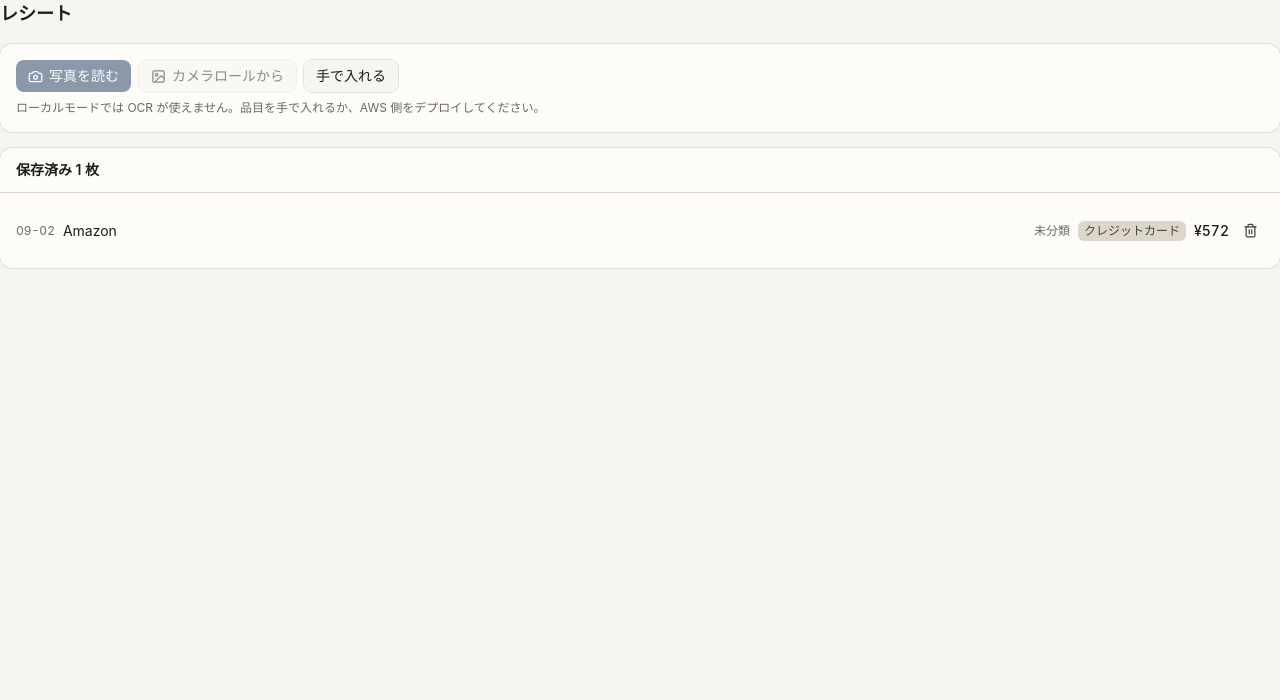
Test case: 保存する前の警告 › 保存済みと同じかもしれない下書きには、登録する前に警告を出す
The image size is (1280, 700).
expect the heading "保存済み 1 枚" is shown: met, box [16,160,99,180]
Click the button "手で入れる" at point(351, 76), box [304,60,398,92]
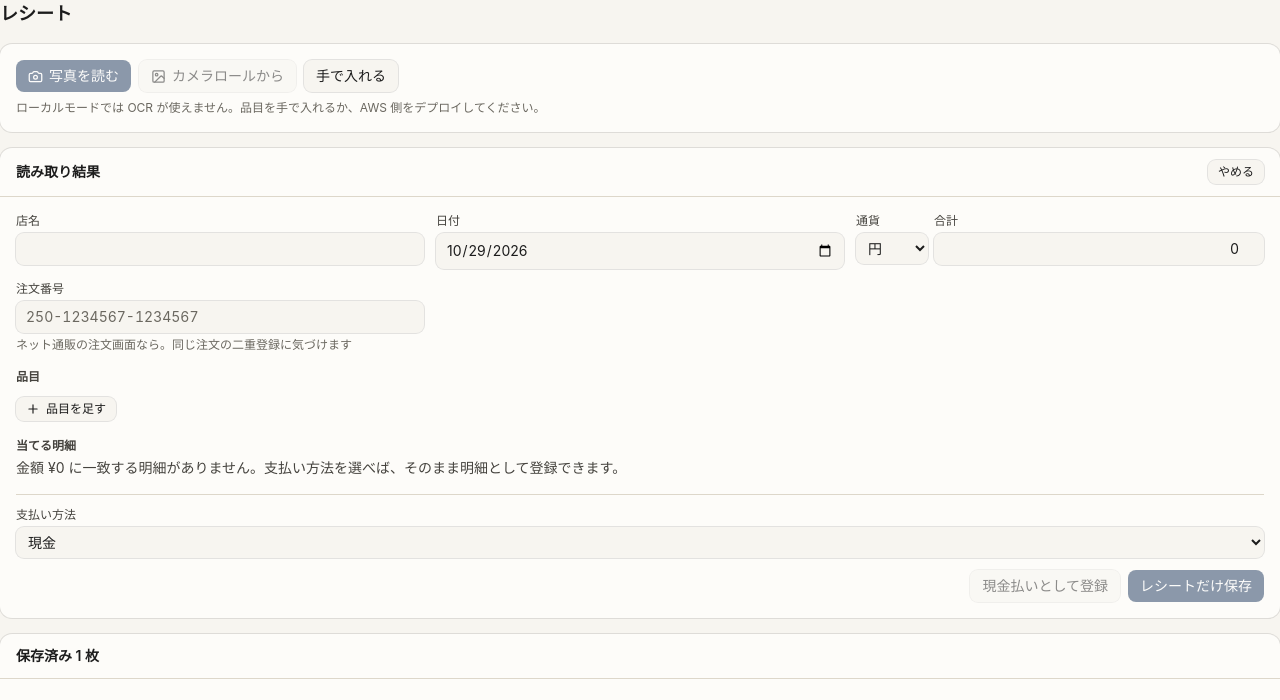
Type "Amazon" into the field labelled "店名" at point(220, 249), box [16,233,424,265]
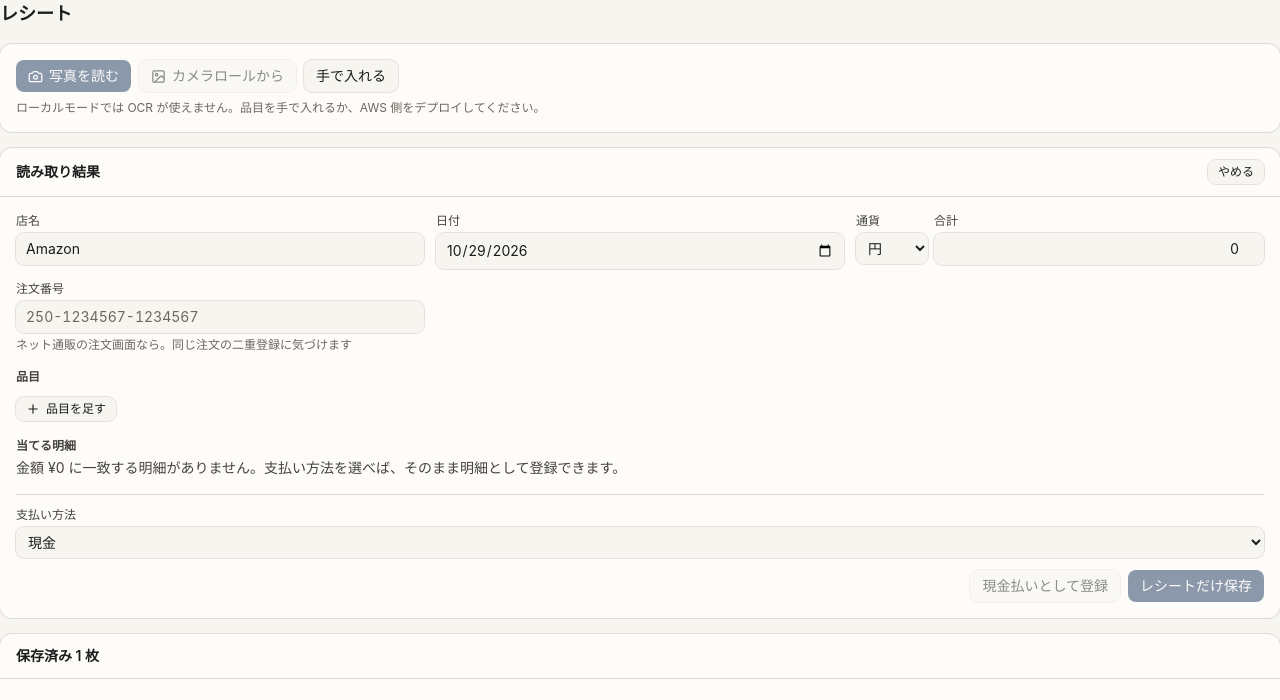
Type "2026-09-04" into the date field labelled "日付" at point(640, 251), box [436,233,844,269]
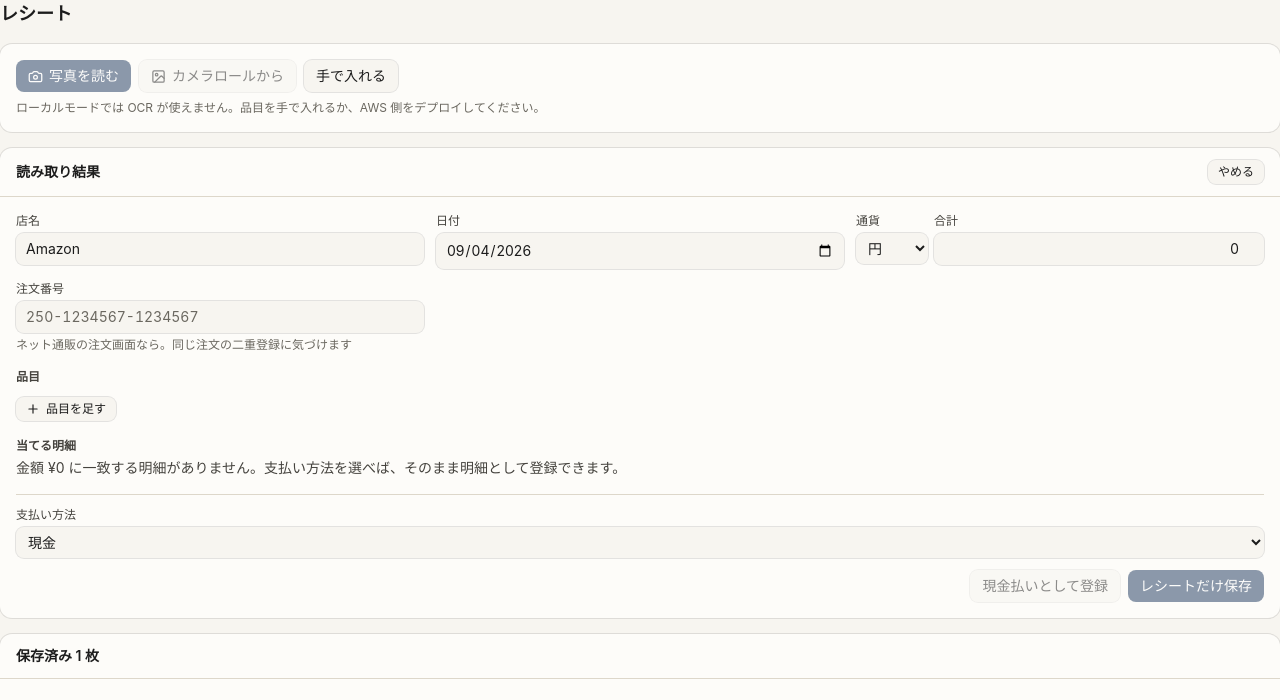
Replace the text in the number field labelled "合計" with "572" at point(1099, 249), box [934,233,1264,265]
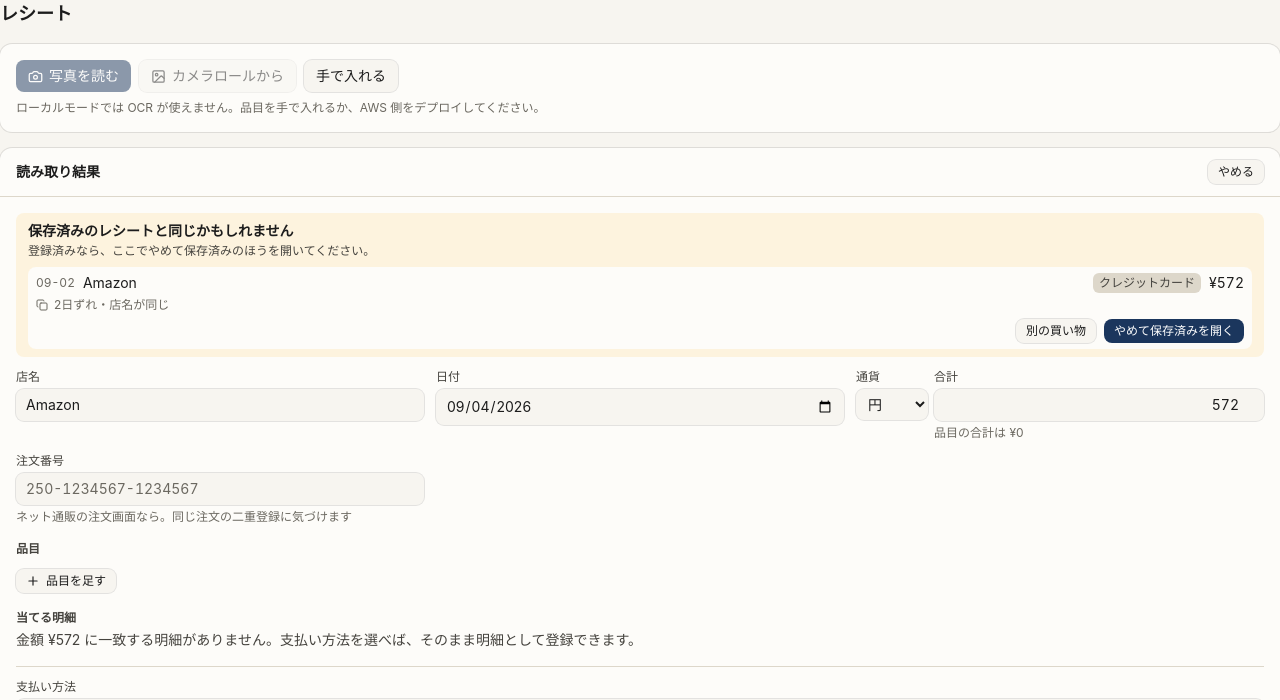
expect the text "保存済みのレシートと同じかもしれません" is shown: met, box [28,222,294,239]
expect the text "2日ずれ・店名が同じ" is shown: met, box [54,297,169,313]
